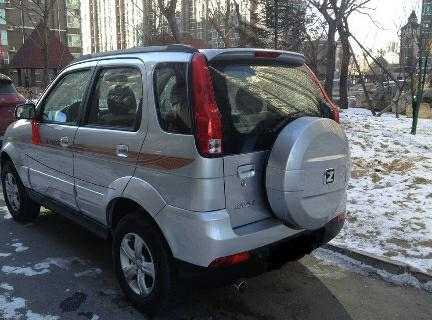众泰-T200: (4, 43, 356, 308)
